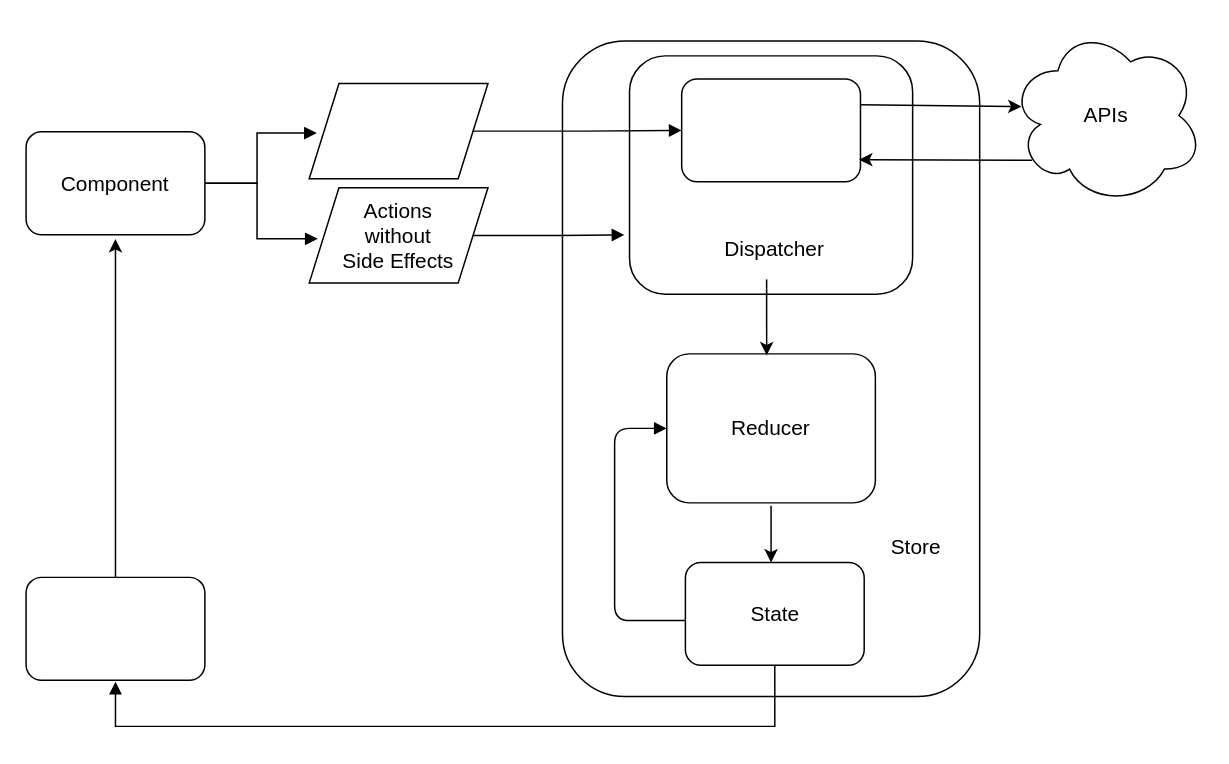
Image size: 1229x764. Some labels were removed from this diagram. The box of each missing label's shape, as (x1, y1, x2, y2) in pixels:
Actions with Side Effects: (308, 82, 488, 179)
Saga Middleware: (680, 77, 860, 182)
View: (25, 576, 205, 680)
